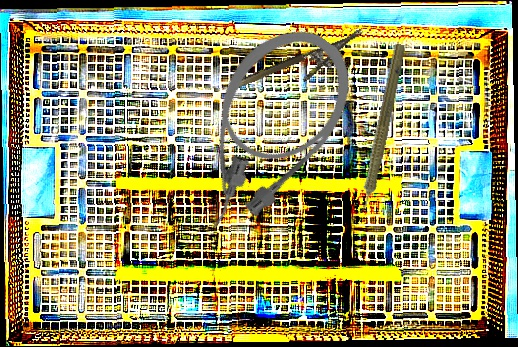Cannula: (152, 6, 376, 252)
Handpiece: (350, 41, 409, 224)
Needle Holder: (229, 28, 373, 108)
